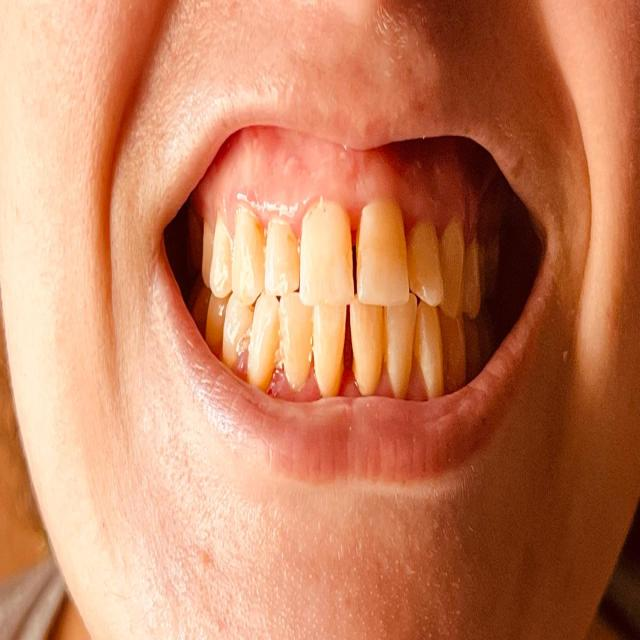tooth: (311, 309, 383, 393), (385, 300, 445, 396), (301, 208, 357, 308), (357, 207, 411, 304), (278, 295, 314, 383), (233, 210, 265, 298), (251, 292, 275, 388), (267, 227, 301, 290)
